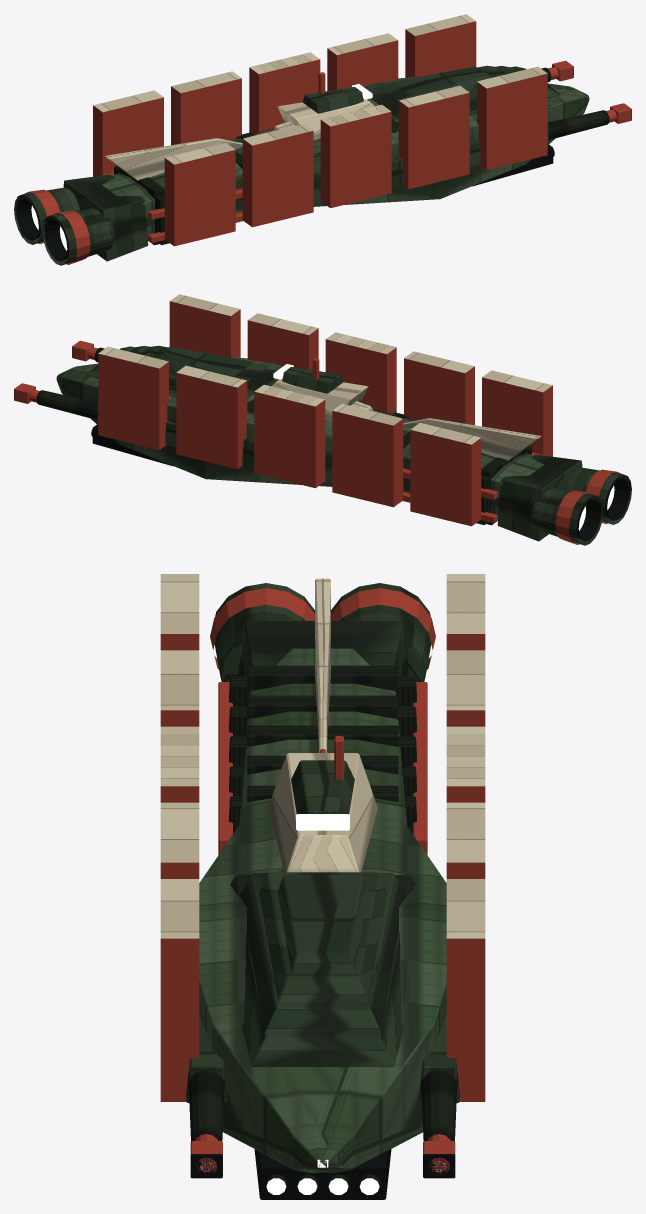
File: destroyer.glb
3 views of the same model, one above another, from view 1: azimuth 30°, elevation 25°; view 2: azimuth 150°, elevation 25°; view 3: azimuth 270°, elevation 25° (orthographic). The views are drawn at different scales.
Visible parts, largest first — view 1: destroyer; view 2: destroyer; view 3: destroyer.
Part boxes in pixels (box(x1,y1,x2,y2)): destroyer: box(14, 14, 631, 265); destroyer: box(14, 294, 631, 545); destroyer: box(160, 574, 485, 1199).
Bounding box in the file's own units: 30 × 6.63 × 7.57.
Materials: 1 (1 with a texture image).
